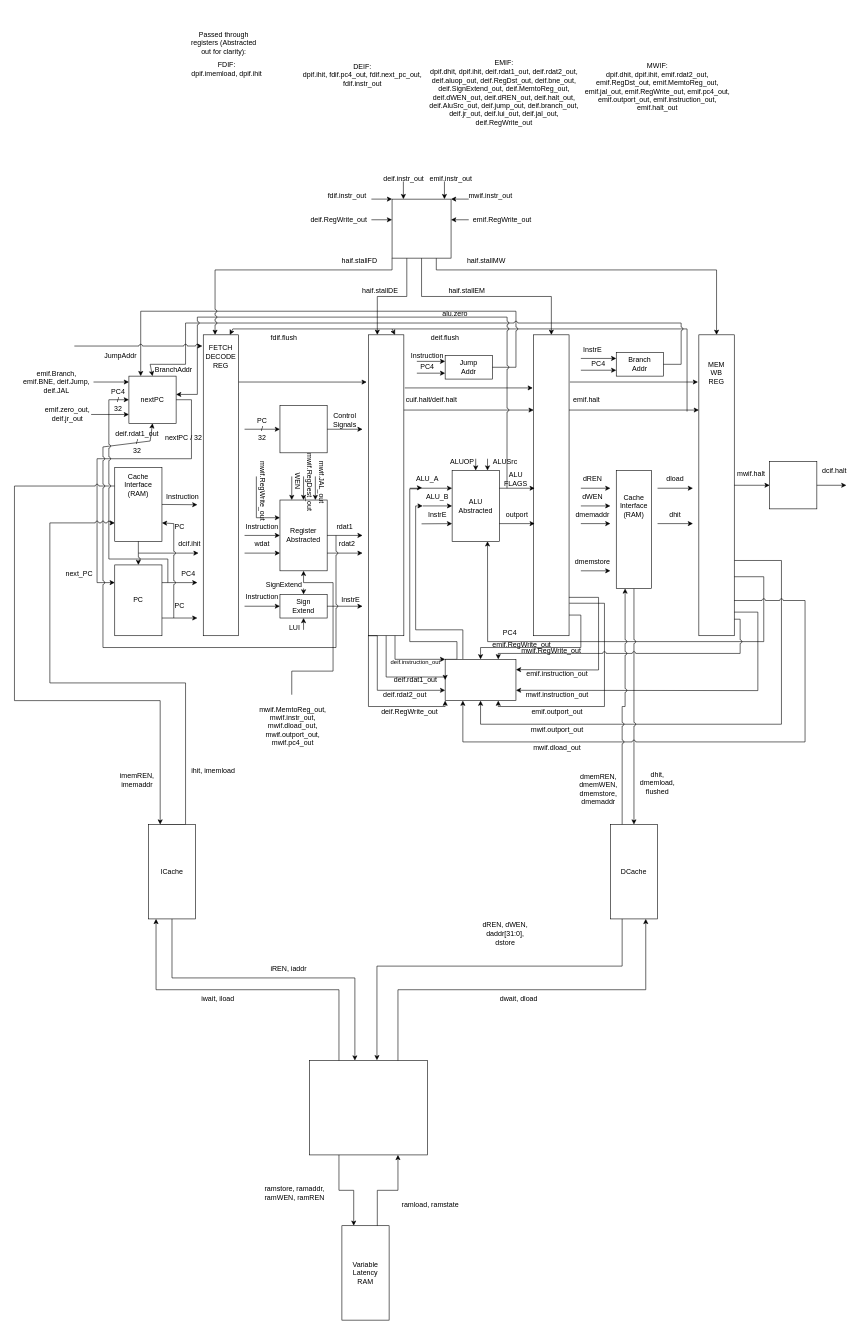
Some shapes in this 863 by 1330 pixel diagram are drawn without their labels. Each missing label, with the centre of its shape:
"Control Unit" belongs at point (303, 429).
"DECODE EXECUTE REG" belongs at point (386, 485).
"EXECUTE MEM REG" belongs at point (551, 485).
"Forwarding Unit" belongs at point (480, 680).
"HALT LATCH" belongs at point (793, 485).
"Hazard Unit" belongs at point (421, 228).
"Memory Control" belongs at point (368, 1107).
